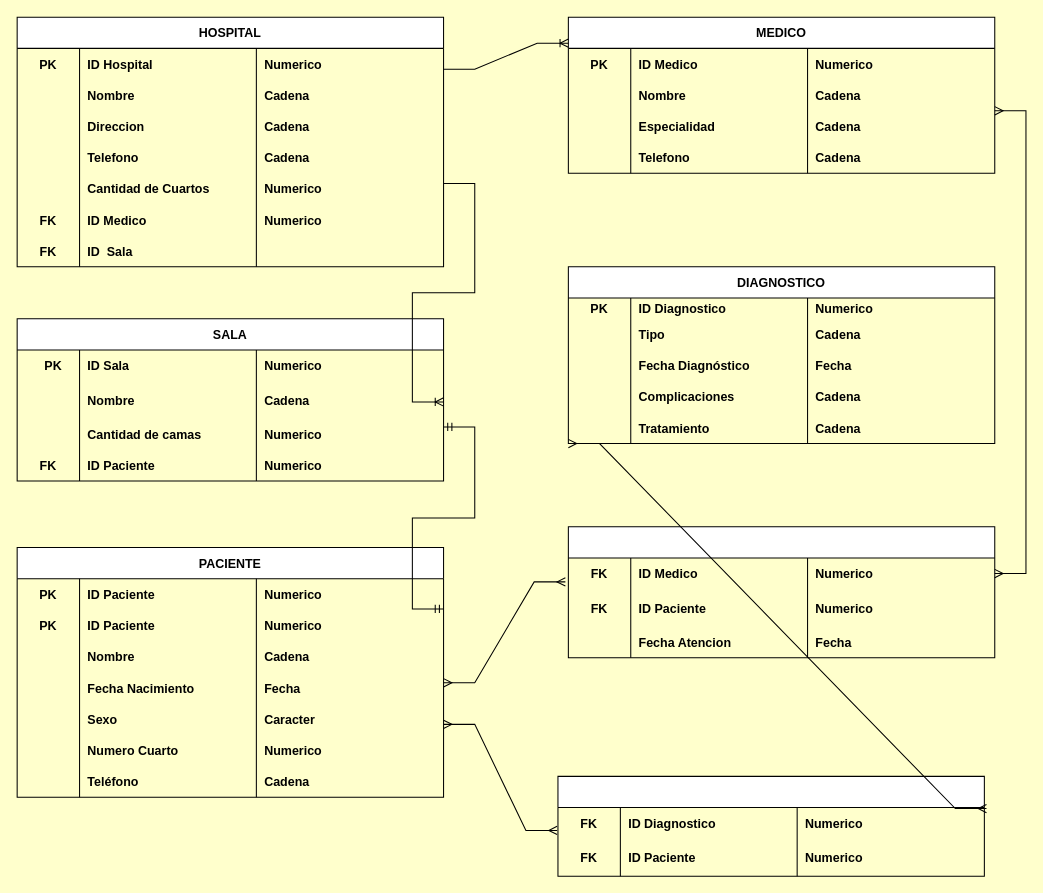
The diagram is 1043 pixels wide and 893 high, and some of its shapes have lost their labels. The box of each missing label's shape, as (x1, y1, x2, y2) in pixels:
ATENDIDO: (567, 526, 995, 658)
TIENE DIAGNOSTICO: (557, 775, 984, 876)
